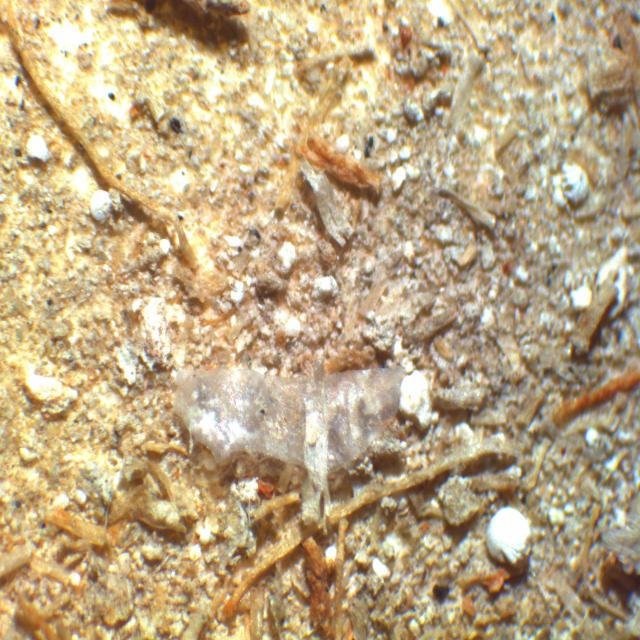microplastic: (170, 362, 411, 475)
